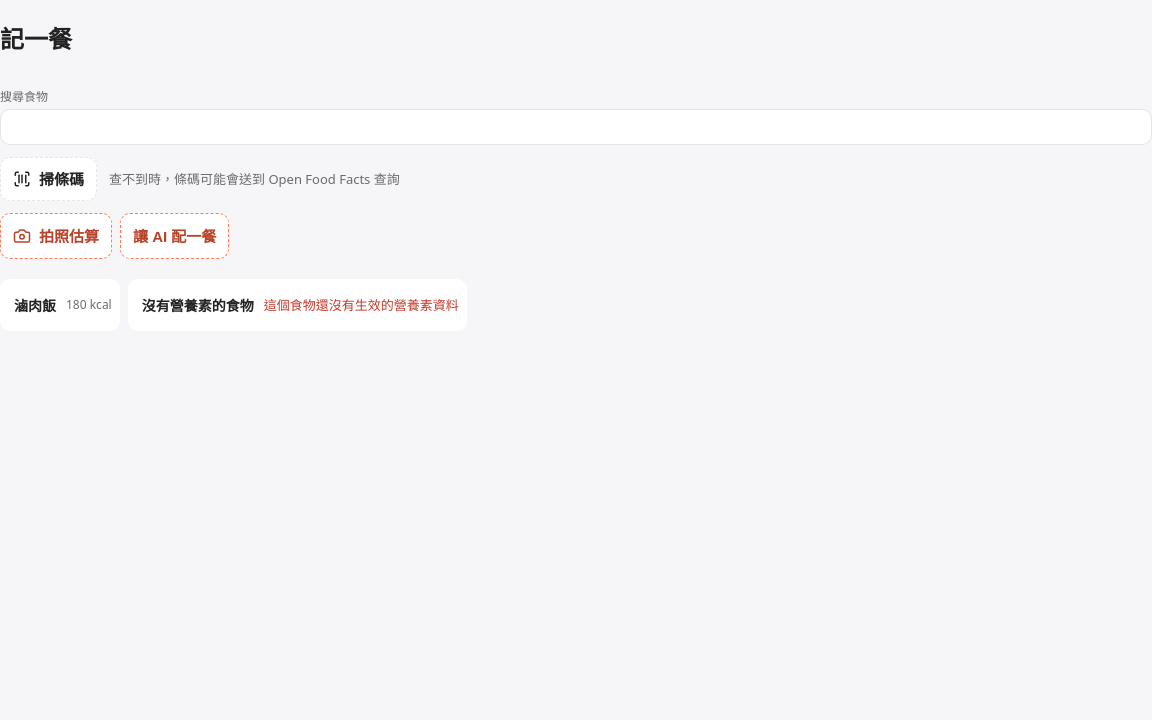
Scenario: 記一餐 › 從搜尋結果選一個食物，行為跟從常吃選一個完全一樣（進份量輸入）
Type "白飯" into the field labelled "搜尋食物" at (576,127), box [0,109,1151,145]
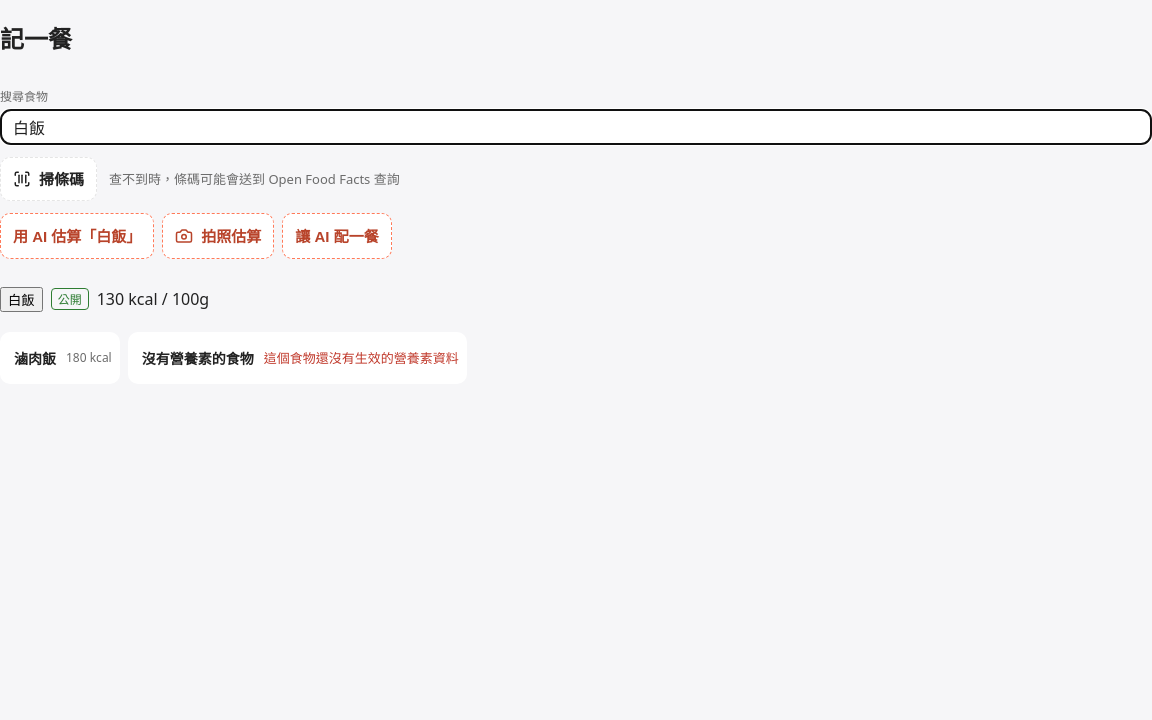
Click the button "白飯" at (21,299), box [0,287,43,312]
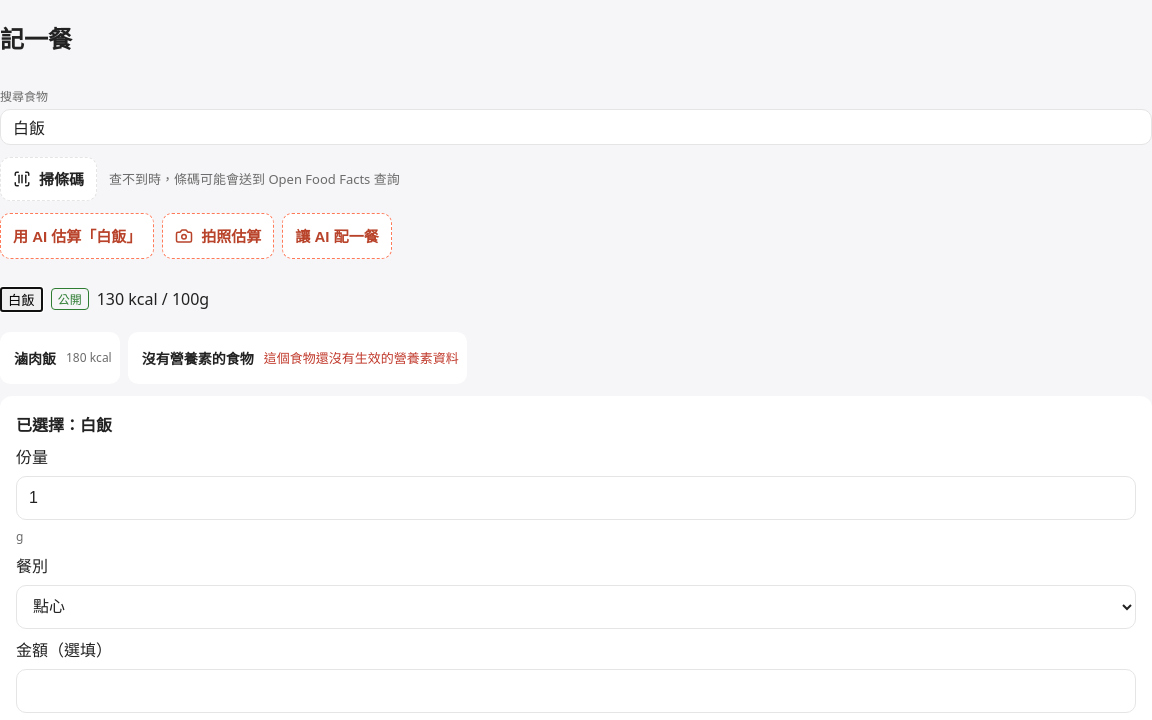
expect the text "已選擇：白飯" is shown: met, box [16,412,112,436]
expect the field labelled "份量" is shown: met, box [16,476,1136,520]
